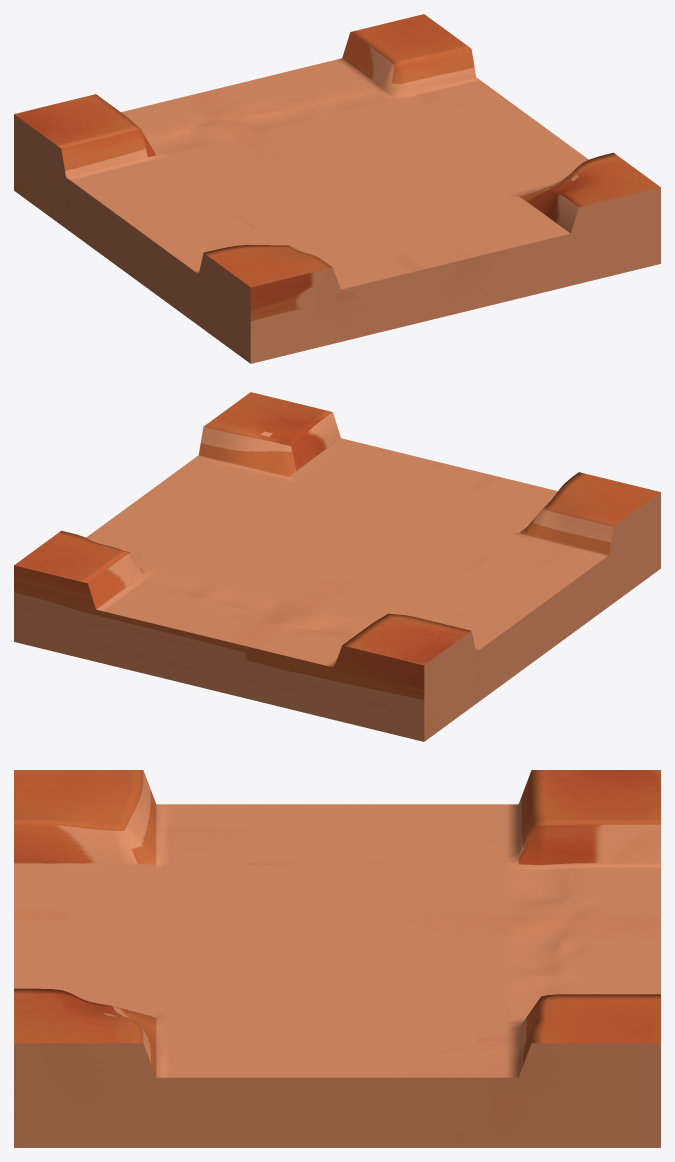
File: Path_cross_textured.fbx
3 renders of one model, top to bottom at view 1: azimuth 30°, elevation 25°; view 2: azimuth 150°, elevation 25°; view 3: azimuth 270°, elevation 25°, orthographic. The views are drawn at different scales.
Parts seen in each view (by area): view 1: pCube3; view 2: pCube3; view 3: pCube3.
Boxes of the visible parts, <box> form: pCube3: <box>14,14,660,363</box>; pCube3: <box>14,392,660,741</box>; pCube3: <box>14,770,660,1147</box>.
Size of the model in its own units: 3.81 by 0.6788 by 3.81.
